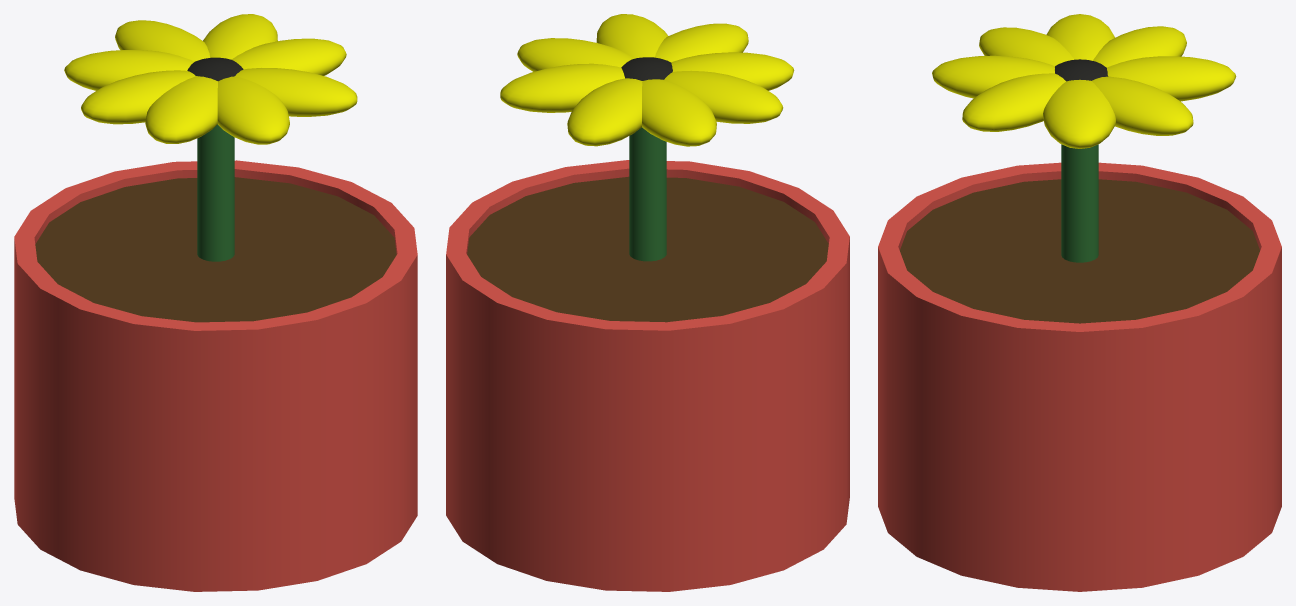
The model's file is Blume_01.fbx.
3 views of the same model, side by side, from view 1: azimuth 30°, elevation 25°; view 2: azimuth 150°, elevation 25°; view 3: azimuth 270°, elevation 25° (orthographic).
Visible parts, largest first — view 1: pPipe1, pCylinder2, pasted__pasted__pSphere1 (×4), pasted__pSphere1 (×3), pCylinder3, pasted__pasted__pasted__pSphere1, pSphere1; view 2: pPipe1, pCylinder2, pasted__pasted__pSphere1 (×4), pasted__pSphere1 (×3), pCylinder3, pasted__pasted__pasted__pSphere1, pSphere1; view 3: pPipe1, pCylinder2, pasted__pasted__pSphere1 (×4), pasted__pSphere1 (×3), pCylinder3, pSphere1, pasted__pasted__pasted__pSphere1.
Boxes of the visible parts, box(x1,y1,x2,y2) form: pPipe1: box(14, 160, 417, 591); pCylinder2: box(35, 177, 396, 322); pasted__pasted__pSphere1 (×4): box(64, 14, 357, 116); pasted__pSphere1 (×3): box(81, 57, 289, 144); pCylinder3: box(197, 124, 234, 261); pasted__pasted__pasted__pSphere1: box(145, 76, 217, 143); pSphere1: box(231, 38, 346, 75); pPipe1: box(446, 160, 849, 591); pCylinder2: box(467, 176, 828, 322); pasted__pasted__pSphere1 (×4): box(500, 14, 716, 146); pasted__pSphere1 (×3): box(621, 23, 783, 123); pCylinder3: box(629, 127, 666, 261); pasted__pasted__pasted__pSphere1: box(671, 52, 794, 90); pSphere1: box(517, 38, 633, 71); pPipe1: box(878, 162, 1281, 591); pCylinder2: box(900, 179, 1259, 323); pasted__pasted__pSphere1 (×4): box(962, 26, 1236, 135); pasted__pSphere1 (×3): box(932, 14, 1115, 98); pCylinder3: box(1061, 144, 1098, 262); pSphere1: box(1043, 79, 1115, 148); pasted__pasted__pasted__pSphere1: box(979, 27, 1074, 65).
Size of the model in its own units: 2.15 by 2.59 by 2.15.
